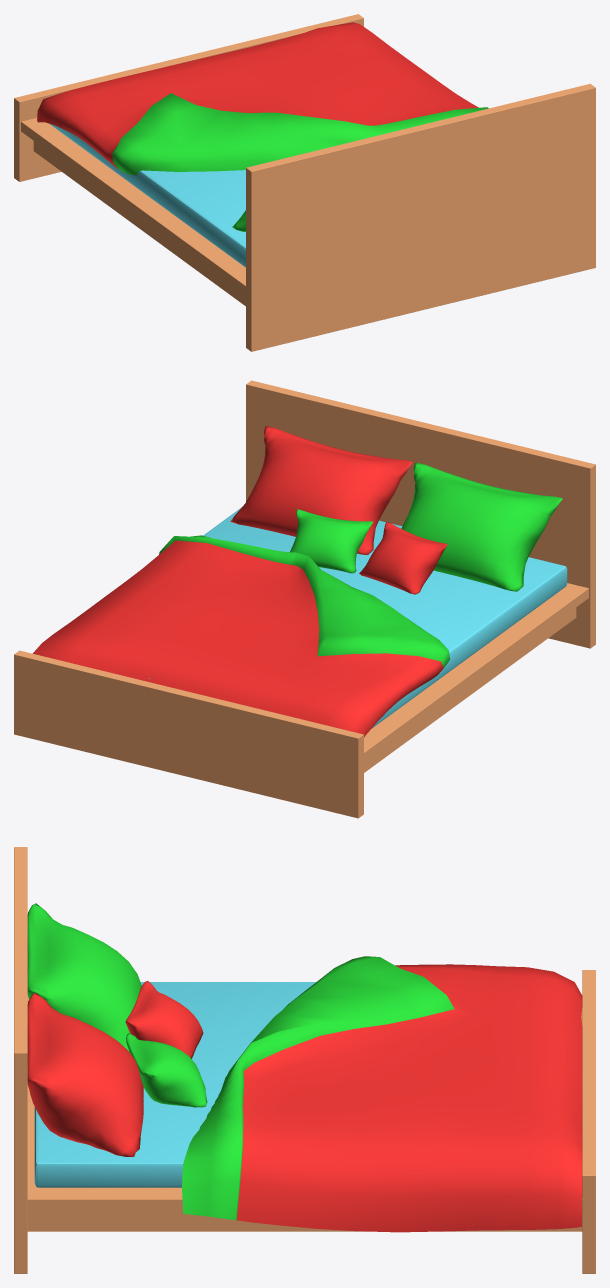
Rendered from bed_2.FBX.
The picture shows the model from 3 angles, top to bottom: view 1: azimuth 30°, elevation 25°; view 2: azimuth 150°, elevation 25°; view 3: azimuth 270°, elevation 25°; orthographic projection. The views are drawn at different scales.
Parts seen in each view (by area): view 1: base; view 2: base, pillow2, pillow1, pillow4, pillow3; view 3: base, pillow1, pillow2, pillow3, pillow4.
Boxes of the visible parts, <box> form: base: <box>14,14,595,351</box>; base: <box>14,380,595,818</box>; pillow2: <box>401,463,562,591</box>; pillow1: <box>230,426,412,554</box>; pillow4: <box>359,522,447,594</box>; pillow3: <box>290,509,372,573</box>; base: <box>14,847,595,1273</box>; pillow1: <box>27,993,143,1156</box>; pillow2: <box>27,903,141,1050</box>; pillow3: <box>126,1033,207,1107</box>; pillow4: <box>125,981,203,1058</box>.
Bounding box in the file's own units: 1.83 × 0.9002 × 2.15.
